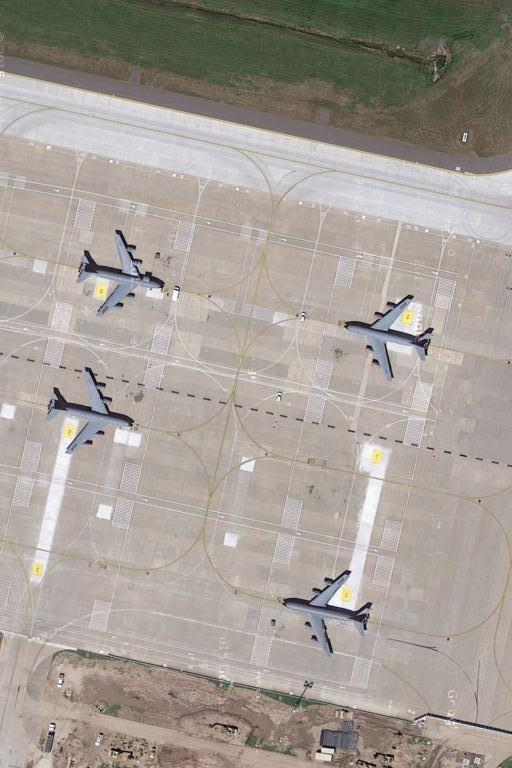KC-135: (279, 566, 378, 662), (73, 223, 170, 320), (342, 293, 435, 389), (42, 367, 137, 458)
